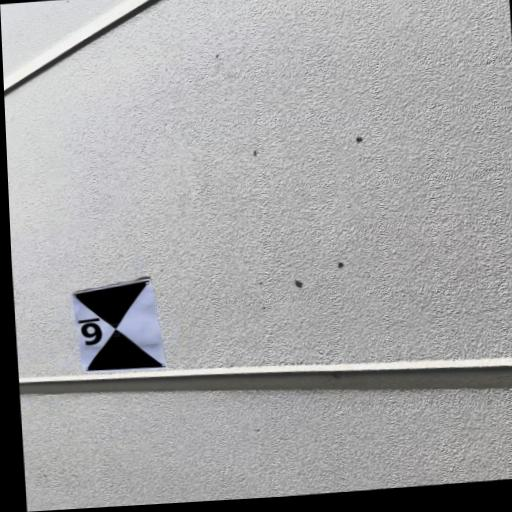target6: (74, 278, 168, 370)
